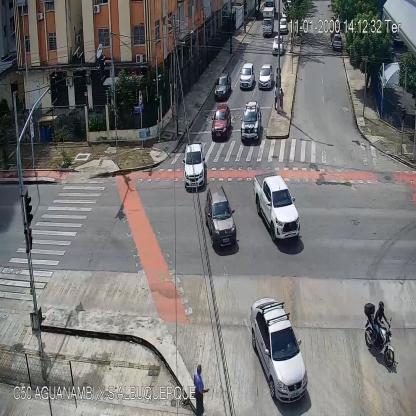car: (249, 299, 308, 404), (254, 175, 300, 243), (204, 188, 237, 253), (183, 145, 206, 190), (240, 100, 262, 141), (212, 104, 232, 139), (214, 74, 231, 97), (258, 64, 273, 90), (240, 61, 254, 87), (272, 36, 284, 56), (278, 16, 288, 32), (332, 34, 340, 50)
motorbike: (364, 299, 396, 371)
person: (193, 365, 209, 416), (279, 89, 284, 114), (274, 84, 278, 111), (172, 105, 176, 125)
truck: (262, 5, 276, 37)
